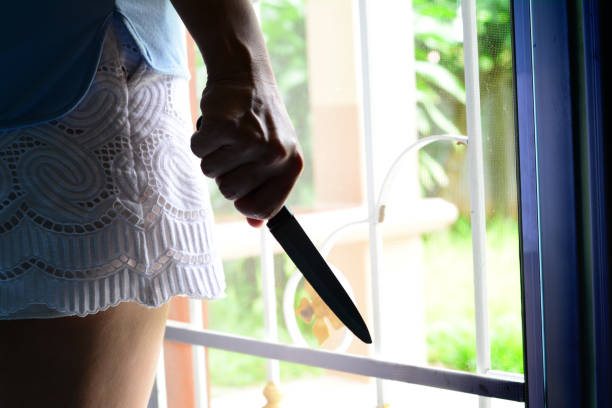knife: (196, 117, 376, 349)
